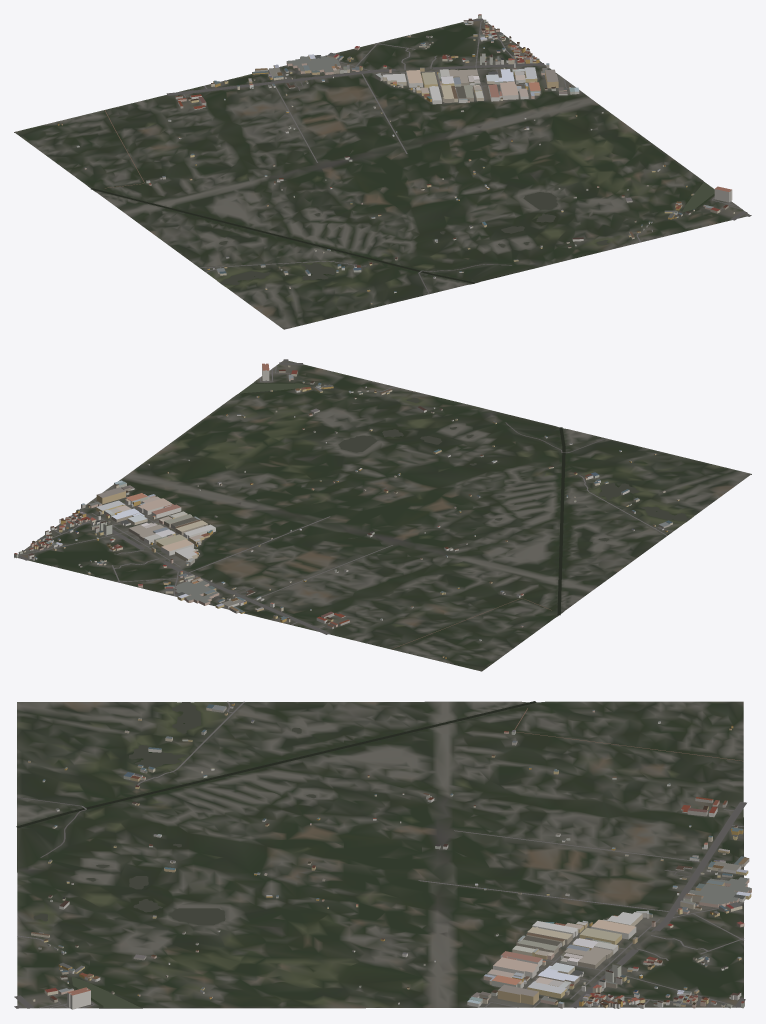
The picture shows the model from 3 angles, top to bottom: view 1: azimuth 30°, elevation 25°; view 2: azimuth 150°, elevation 25°; view 3: azimuth 270°, elevation 25°; orthographic projection. The views are drawn at different scales.
Visible parts, largest first — view 1: ground, buildings, water, roads; view 2: ground, buildings, water, roads; view 3: ground, buildings, water, roads.
Boxes of the visible parts, x1,y1,x2,y2 form: ground: (14, 18, 748, 329); buildings: (57, 14, 734, 304); water: (91, 182, 714, 285); roads: (104, 18, 751, 294); ground: (14, 360, 751, 671); buildings: (14, 363, 679, 658); water: (239, 383, 689, 615); roads: (18, 359, 673, 649); ground: (17, 701, 743, 1008); buildings: (28, 703, 751, 1009); water: (16, 701, 536, 1007); roads: (14, 701, 746, 1008).
Bounding box in the file's own units: 1410 × 34.54 × 1424.
